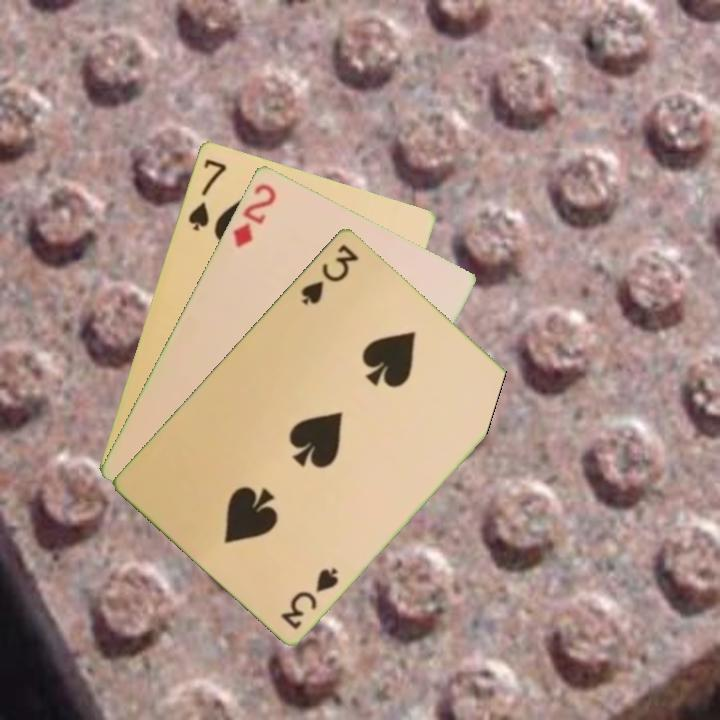2d: (229, 179, 280, 250)
3s: (297, 240, 362, 308), (277, 563, 341, 632)
7s: (184, 155, 229, 234)
